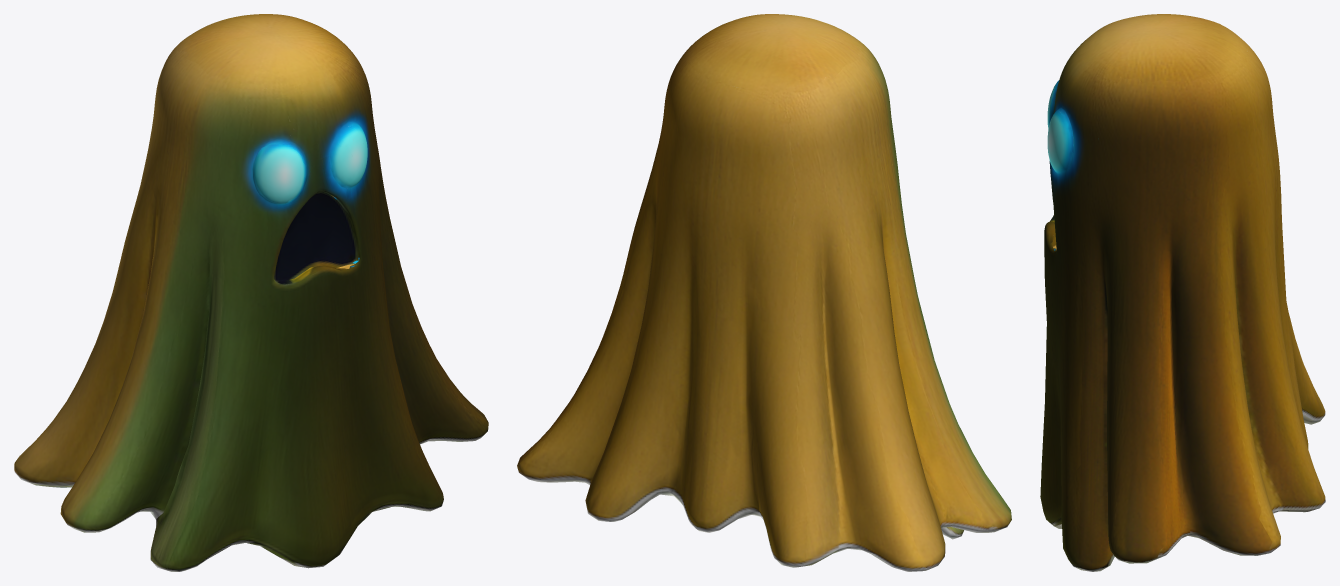
File: ghost.glb
3 views of the same model, side by side, from view 1: azimuth 30°, elevation 25°; view 2: azimuth 150°, elevation 25°; view 3: azimuth 270°, elevation 25° (orthographic). The views are drawn at different scales.
Visible parts, largest first — view 1: Ghost; view 2: Ghost; view 3: Ghost.
Part boxes in pixels (x1,y1,x2,y2): Ghost: (14, 14, 488, 571); Ghost: (517, 14, 1011, 571); Ghost: (1040, 14, 1325, 571).
Bounding box in the file's own units: 0.5281 × 0.6 × 0.3128.
1 material, 1 textured.
